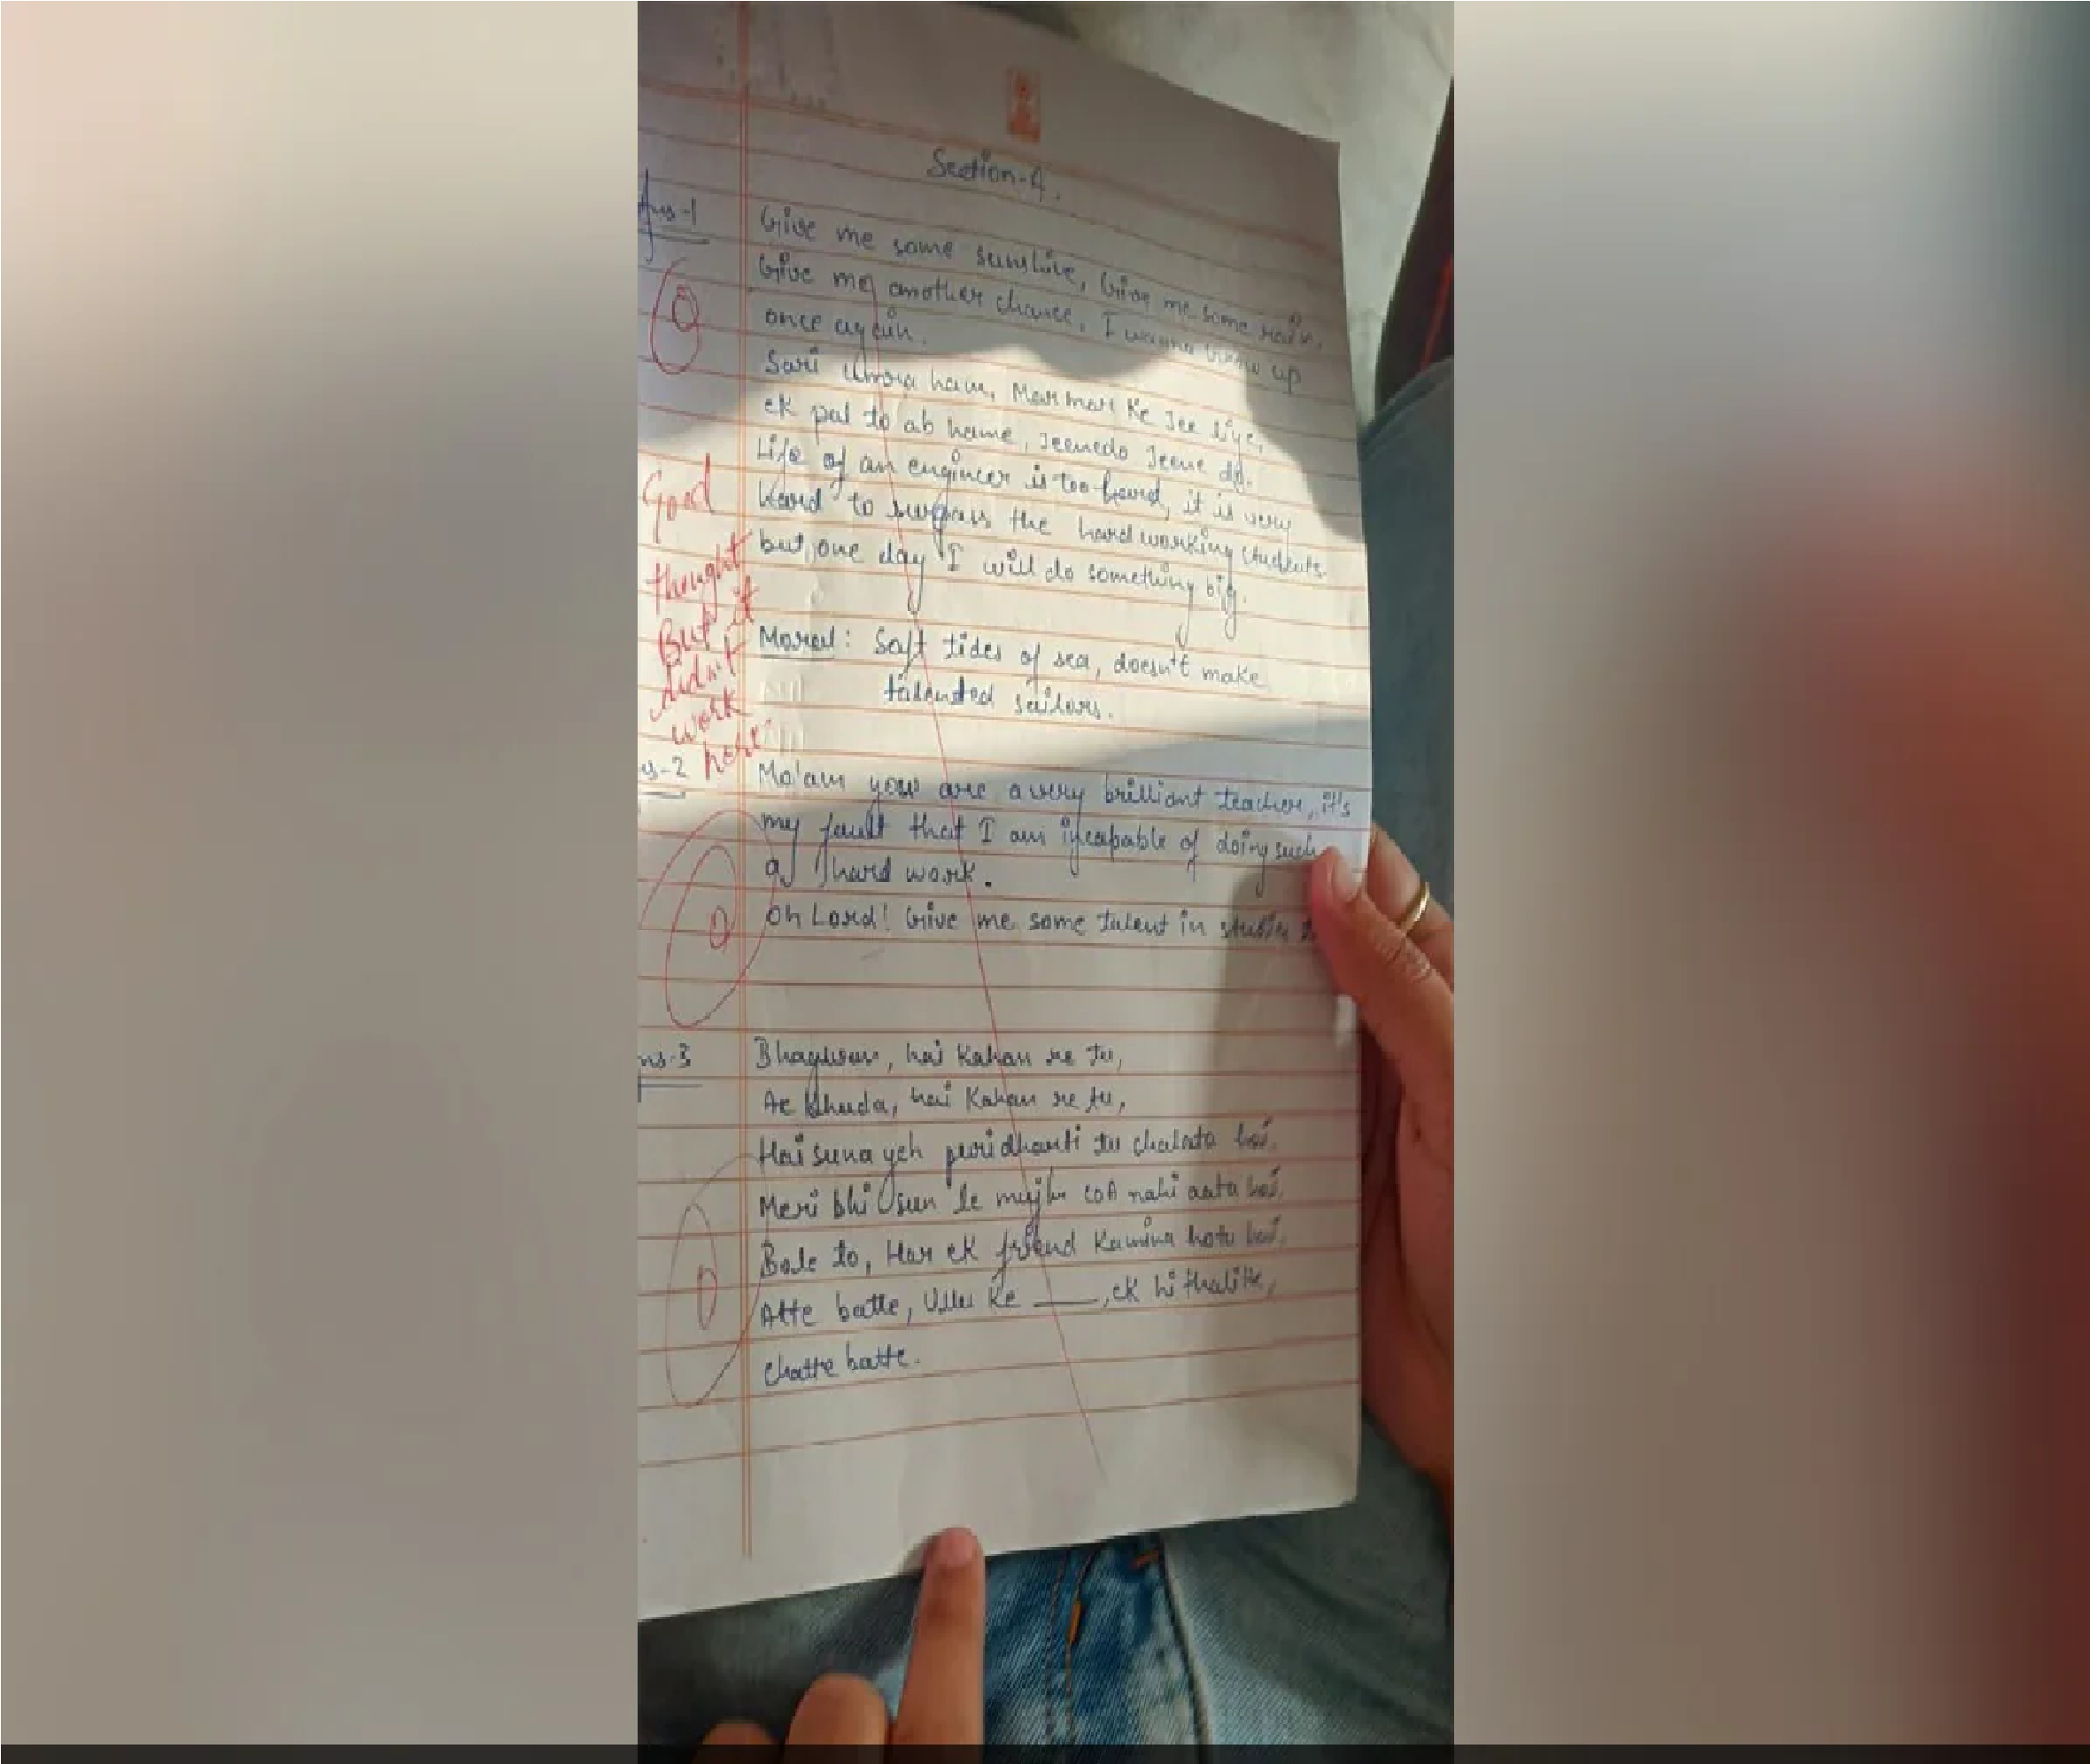notebook: (646, 10, 1336, 1610)
